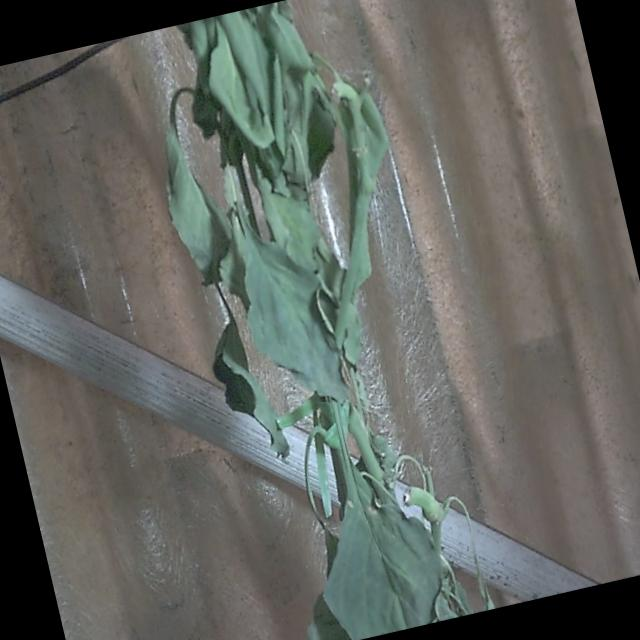Leaf: (235, 208, 348, 401), (324, 470, 443, 639), (166, 125, 231, 284), (213, 319, 288, 456), (208, 21, 274, 148), (258, 177, 321, 273), (308, 594, 351, 639)
